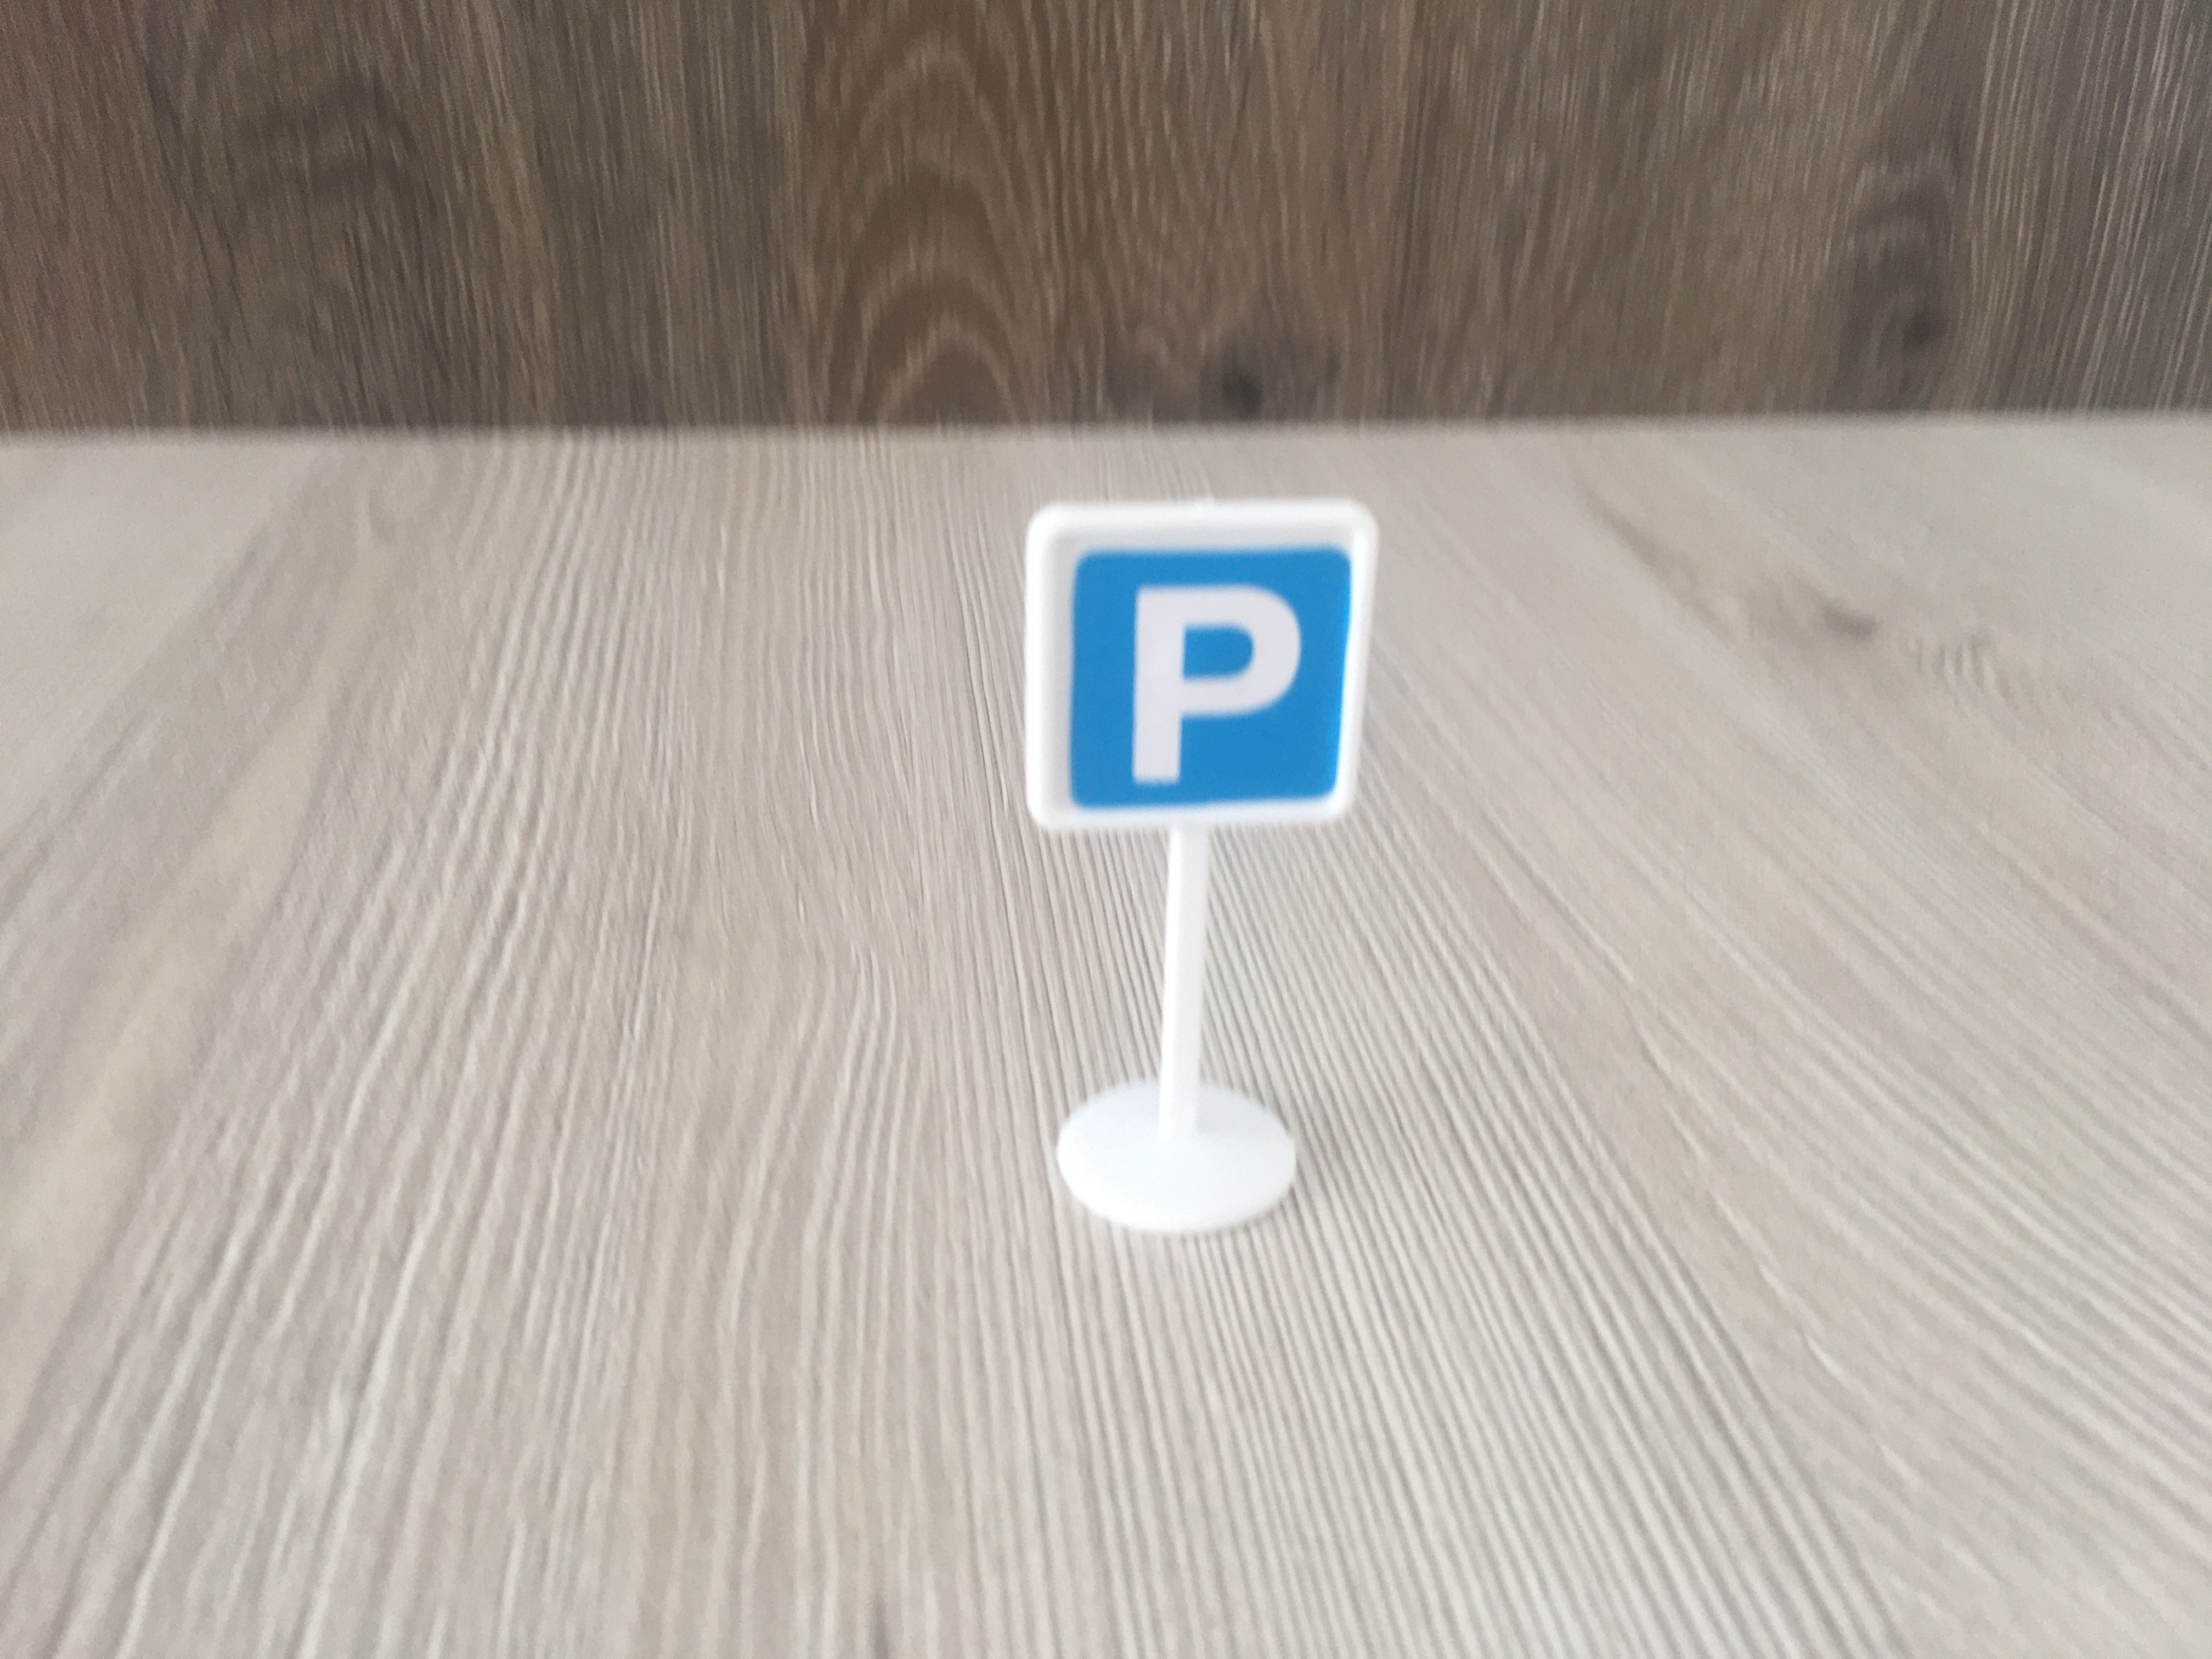parking: (1021, 511, 1367, 833)
